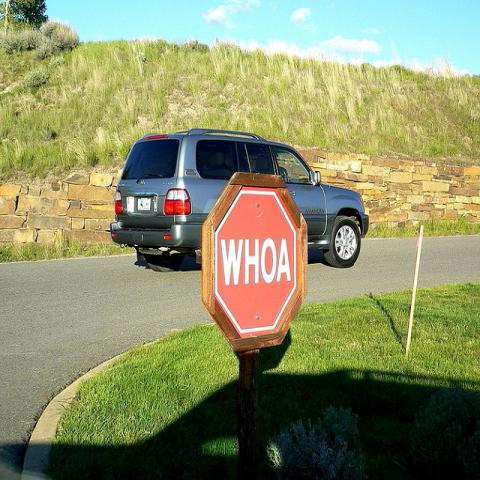car: (109, 131, 364, 268)
